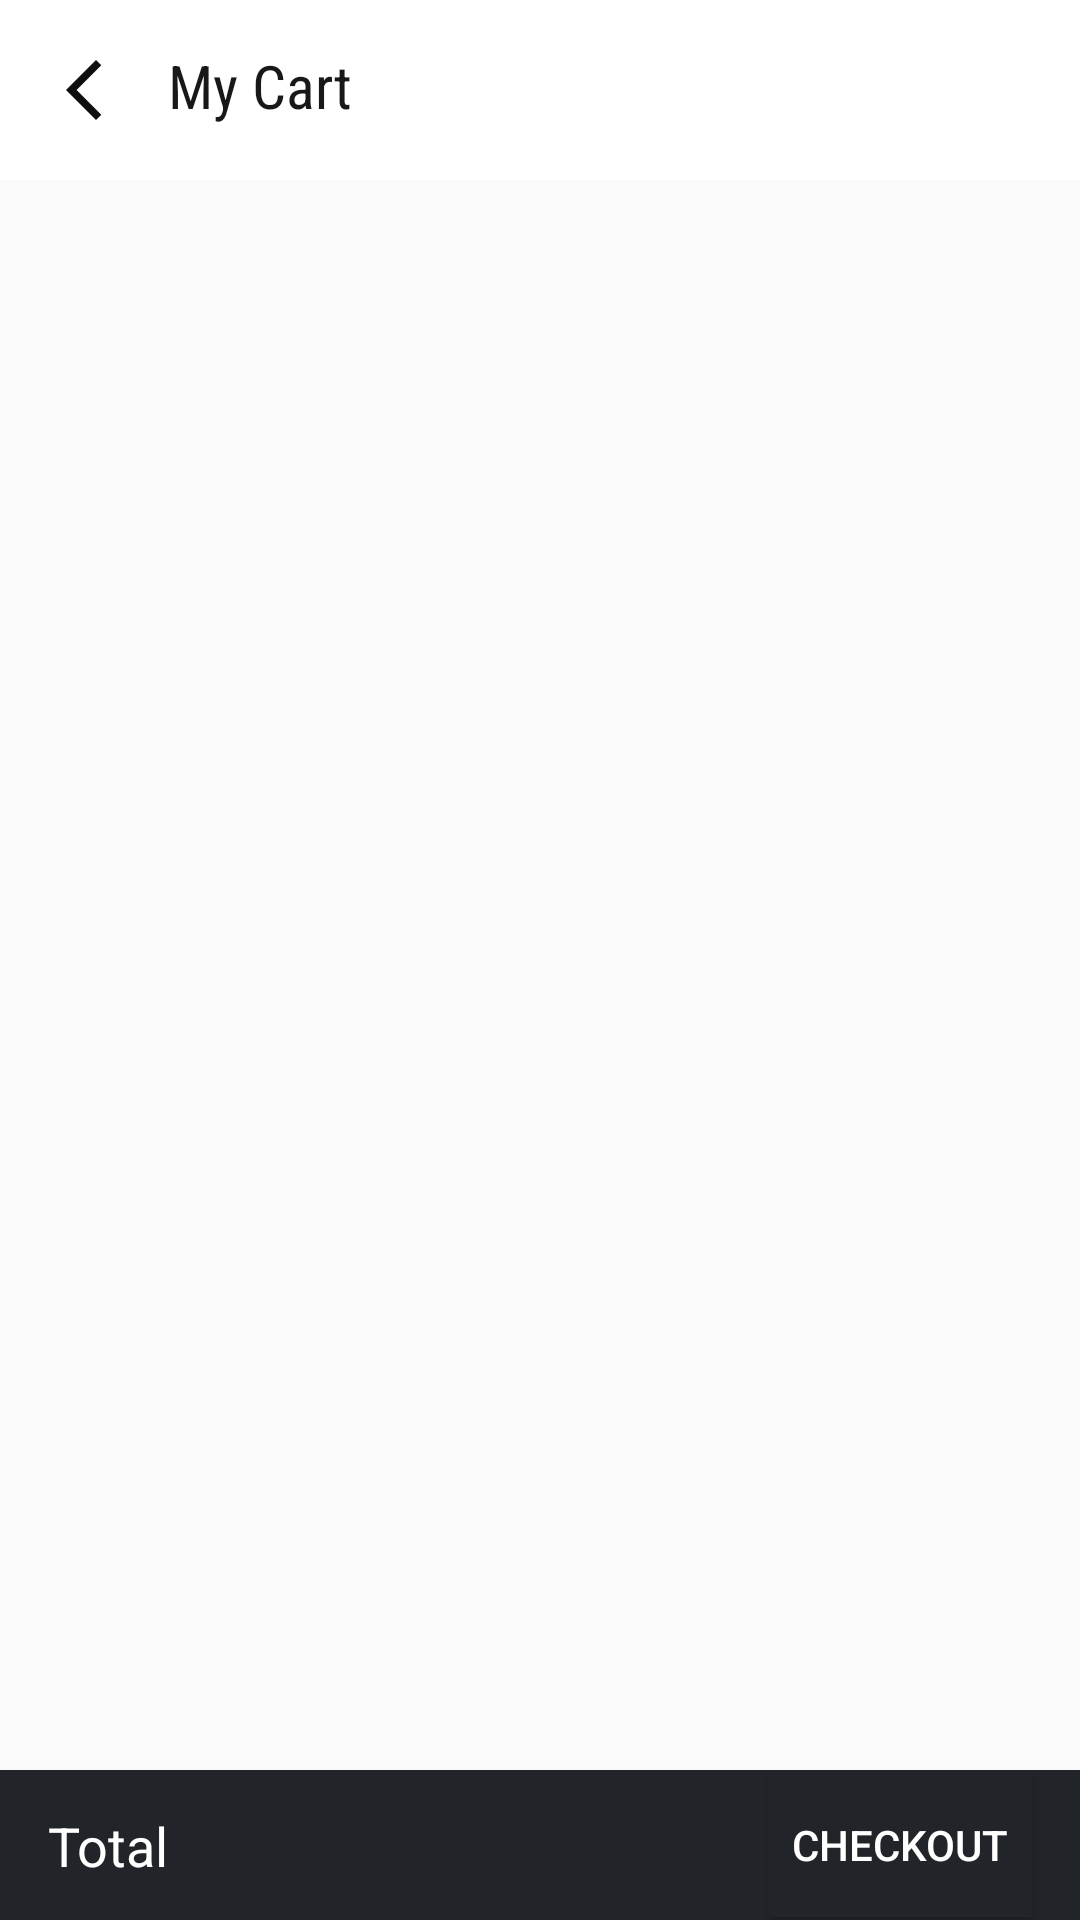

Where icons sit on this 1080x1920 app screen, as (x1, y1, x2, y2):
arrow back: (66, 60, 101, 120)
